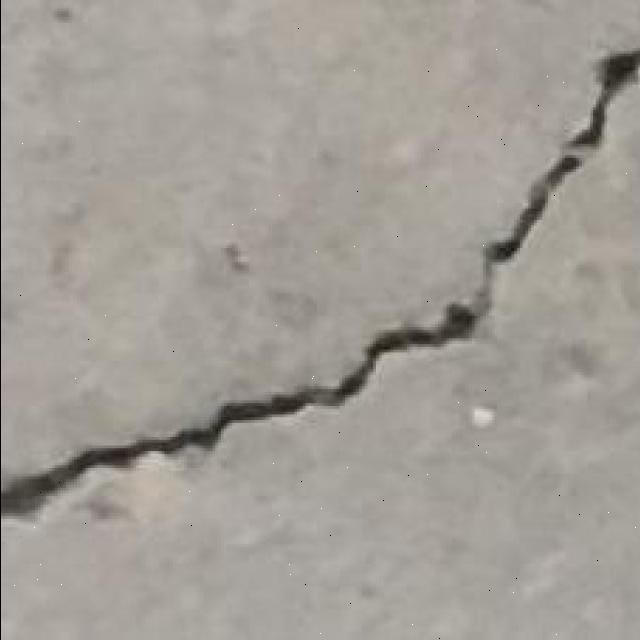crack: (111, 210, 545, 362), (498, 60, 635, 265), (4, 457, 136, 539), (569, 46, 639, 153), (69, 371, 172, 438), (2, 493, 58, 537)
